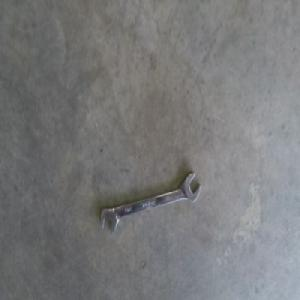Wrench: (100, 171, 200, 235)
